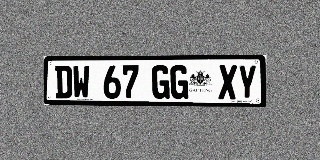6: (103, 65, 121, 99)
7: (121, 65, 139, 99)
D: (55, 65, 72, 98)
G: (152, 65, 170, 99), (170, 65, 188, 99)
W: (73, 65, 90, 99)
X: (218, 65, 237, 99)
Y: (238, 65, 257, 100)
